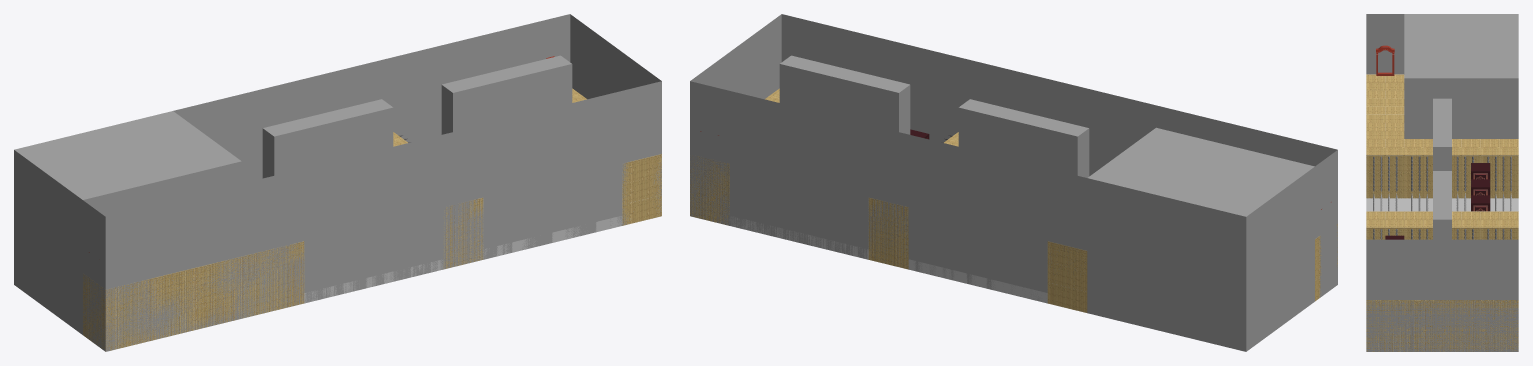
File: Floor_1.5_04.fbx
3 renders of one model, left to right at view 1: azimuth 30°, elevation 25°; view 2: azimuth 150°, elevation 25°; view 3: azimuth 270°, elevation 25°, orthographic. The views are drawn at different scales.
Parts seen in each view (by area): view 1: pCube14, Wall_04, pCube9, pCube11, polySurface308, polySurface276, polySurface92, polySurface91, polySurface90; view 2: pCube14, Wall_04, pCube11, pCube9, polySurface276, polySurface308; view 3: pCube14, Wall_04, polySurface276, pCube9, pCube11, polySurface193 (×3), polySurface220 (×3), polySurface202 (×3), polySurface184 (×3), polySurface247 (×3), polySurface211 (×3), flower_PL_02 (+44 smaller).
Part boxes in pixels (x1,y1,x2,y2): pCube14: (14,14,661,351); Wall_04: (14,111,241,334); pCube9: (262,99,393,178); pCube11: (441,55,572,134); polySurface308: (398,135,622,258); polySurface276: (304,259,443,303); polySurface92: (94,304,125,330); polySurface91: (94,324,125,351); polySurface90: (94,283,125,310); pCube14: (690,14,1337,350); Wall_04: (1087,127,1314,351); pCube11: (779,55,910,134); pCube9: (958,99,1089,177); polySurface276: (908,259,1047,303); polySurface308: (730,135,953,259); pCube14: (1366,14,1518,351); Wall_04: (1404,14,1518,138); polySurface276: (1366,156,1518,211); pCube9: (1433,98,1451,170); pCube11: (1433,171,1451,239); polySurface193 (×3): (1499,147,1518,316); polySurface220 (×3): (1404,147,1423,317); polySurface202 (×3): (1366,147,1385,317); polySurface184 (×3): (1480,147,1499,316); polySurface247 (×3): (1461,147,1480,317); polySurface211 (×3): (1385,147,1404,317); flower_PL_02: (1471,163,1490,211).
Bounding box in the file's own units: 56 × 13 × 16.
